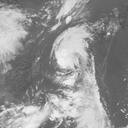cyclone: (54, 25, 91, 72)
